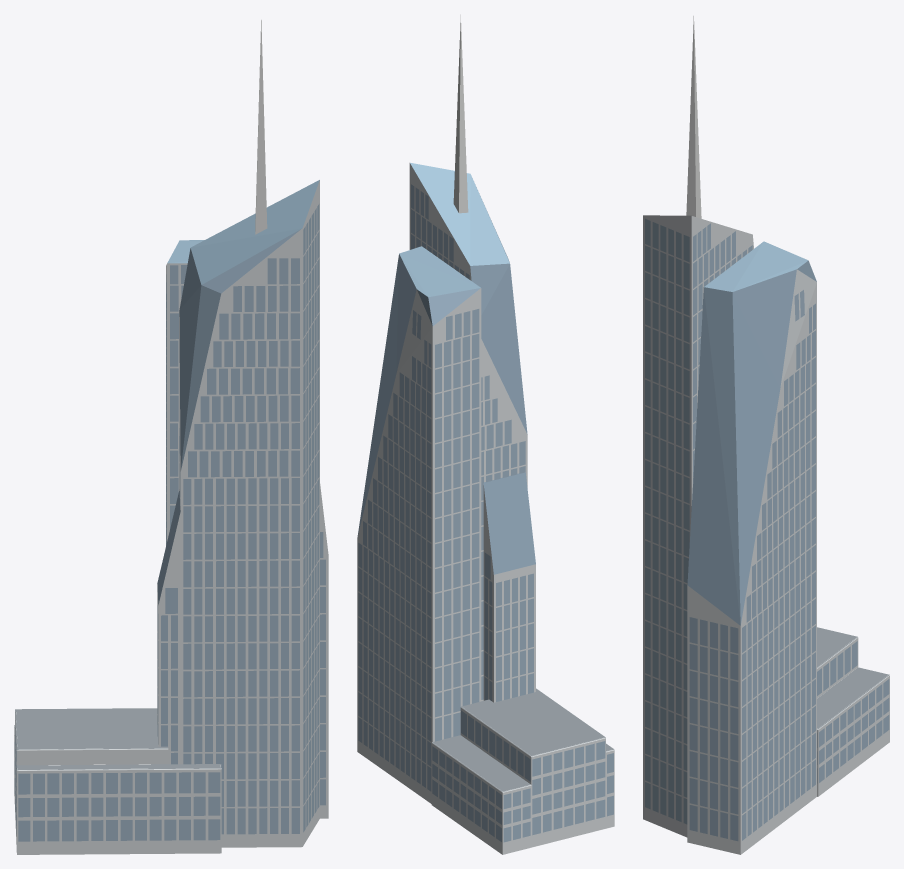
File: detail.glb
The picture shows the model from 3 angles, left to right: view 1: azimuth 30°, elevation 25°; view 2: azimuth 150°, elevation 25°; view 3: azimuth 270°, elevation 25°; orthographic projection. The views are drawn at different scales.
Visible parts, largest first — view 1: bank-of-america-tower; view 2: bank-of-america-tower; view 3: bank-of-america-tower.
Part boxes in pixels (x1,y1,x2,y2): bank-of-america-tower: (14, 20, 328, 854); bank-of-america-tower: (357, 14, 614, 854); bank-of-america-tower: (643, 16, 889, 854).
Bounding box in the file's own units: 139 × 366 × 103.
